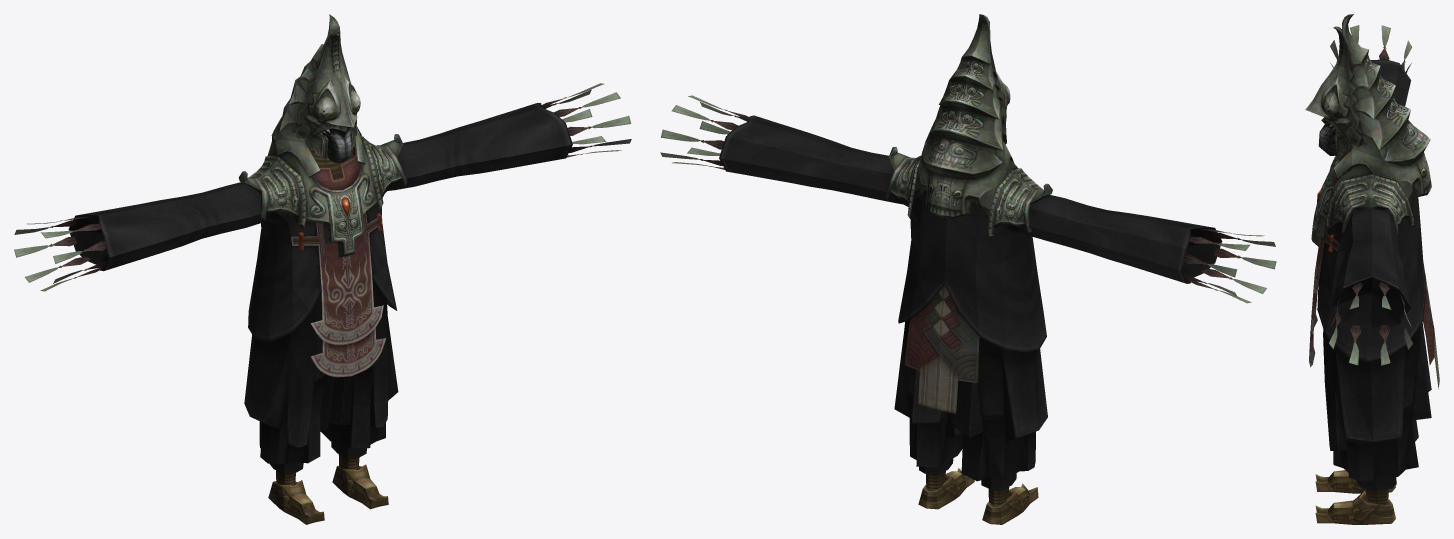
File: boss.obj
3 views of the same model, side by side, from view 1: azimuth 30°, elevation 25°; view 2: azimuth 150°, elevation 25°; view 3: azimuth 270°, elevation 25° (orthographic).
Visible parts, largest first — view 1: zant; view 2: zant; view 3: zant.
Boxes of the visible parts, left/top/right/bottom form: zant: left=14, top=14, right=631, bottom=524; zant: left=660, top=14, right=1276, bottom=524; zant: left=1305, top=14, right=1439, bottom=524.
Size of the model in its own units: 353 by 284 by 70.93.
Materials: 3 (3 with a texture image).
